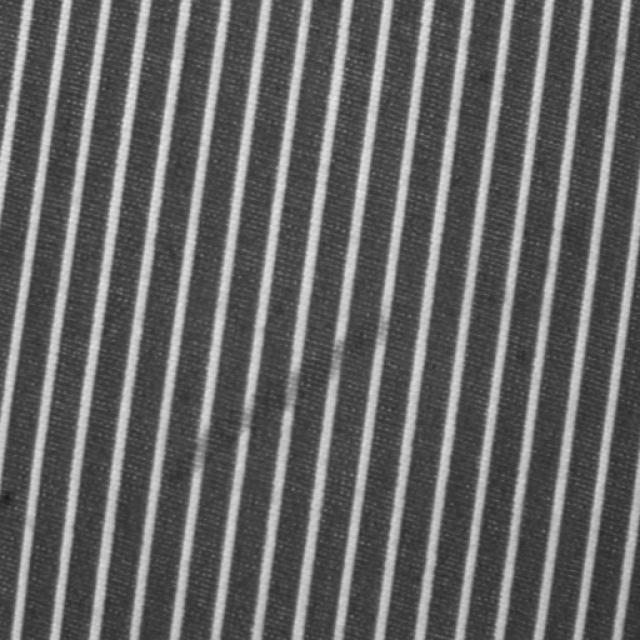Stain-Defect: (162, 301, 408, 494)
